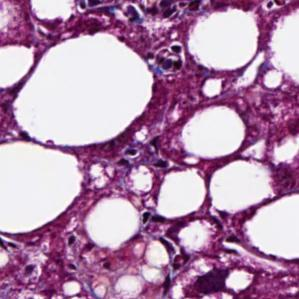inflammation: (116, 135, 172, 173), (144, 37, 190, 79), (159, 237, 190, 275)
